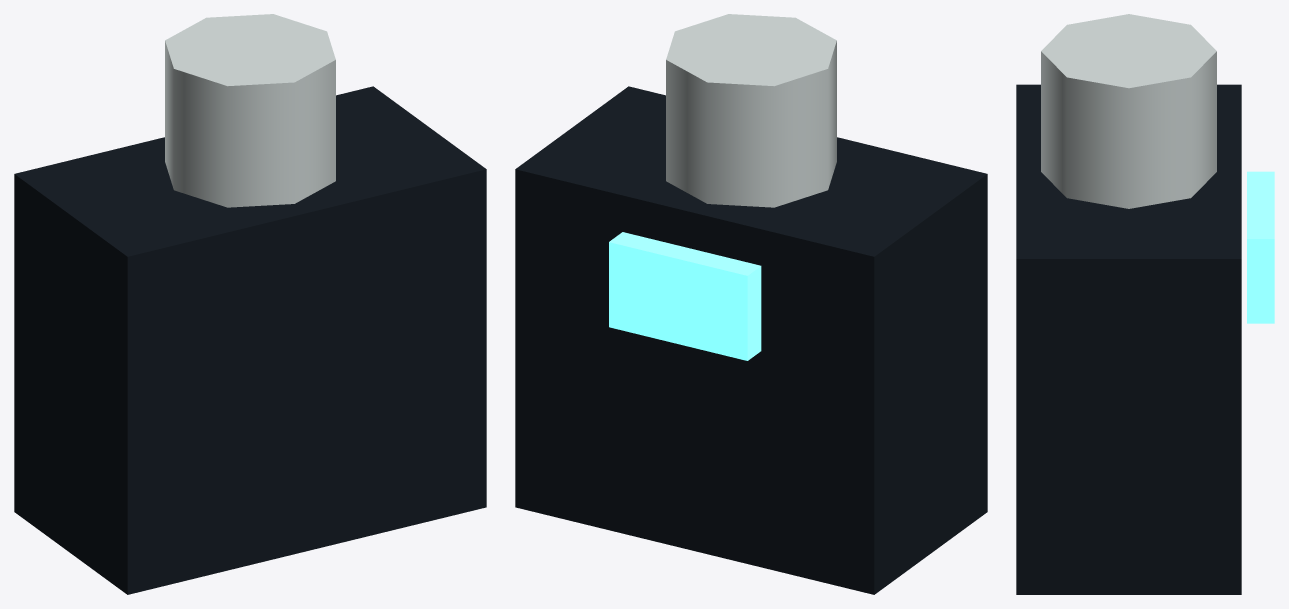
File: np_z06_synthetiseur.glb
3 views of the same model, side by side, from view 1: azimuth 30°, elevation 25°; view 2: azimuth 150°, elevation 25°; view 3: azimuth 270°, elevation 25° (orthographic).
Visible parts, largest first — view 1: Corps, Cuve; view 2: Corps, Cuve, Console; view 3: Corps, Cuve, Console.
Part boxes in pixels (bbox=[...]): Corps: bbox=[14, 86, 486, 594]; Cuve: bbox=[165, 14, 335, 207]; Corps: bbox=[515, 86, 987, 594]; Cuve: bbox=[666, 14, 836, 207]; Console: bbox=[609, 232, 761, 360]; Corps: bbox=[1016, 84, 1241, 594]; Cuve: bbox=[1041, 14, 1216, 208]; Console: bbox=[1247, 171, 1274, 323].
Size of the model in its own units: 1.5 by 1.84 by 0.94.
